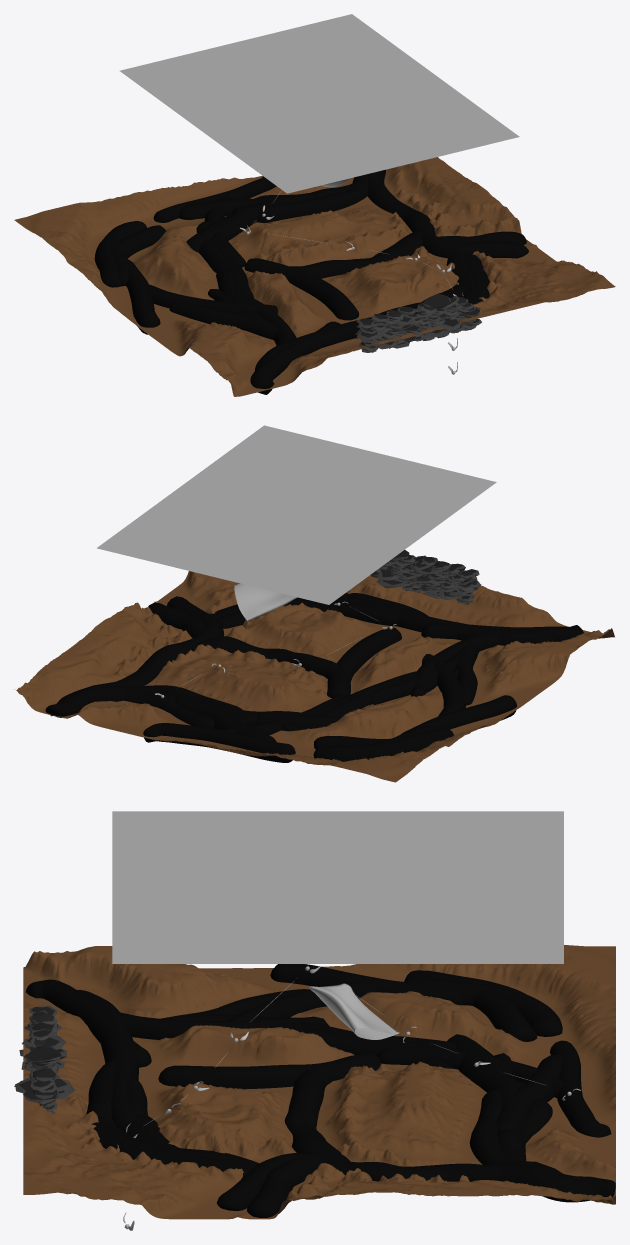
Rendered from quiet.fbx.
3 renders of one model, top to bottom at view 1: azimuth 30°, elevation 25°; view 2: azimuth 150°, elevation 25°; view 3: azimuth 270°, elevation 25°, orthographic. The views are drawn at different scales.
Visible parts, largest first — view 1: polySurface2, canopy, pCube22, pCube25e, pCube23, pCube26, pCube29e, pCube21e, pCube24, pCube28e, pCube20, pCube27; view 2: polySurface2, canopy, pCube22, pCube20, pCube24, pCube23, pCube25e, pCube26, pCube29e, pCube21e, ziploc, pCube27 (+1 smaller); view 3: polySurface2, canopy, pCube22, pCube23, pCube29e, pCube26, pCube20, pCube24, pCube25e, pCube28e, ziploc, pCube27 (+1 smaller).
Boxes of the visible parts, x1,y1,x2,y2 form: polySurface2: (14, 157, 615, 396); canopy: (119, 14, 519, 193); pCube22: (244, 169, 528, 320); pCube25e: (179, 193, 317, 252); pCube23: (94, 221, 165, 287); pCube26: (126, 259, 277, 334); pCube29e: (222, 290, 340, 394); pCube21e: (169, 268, 277, 339); pCube24: (153, 176, 276, 267); pCube28e: (422, 252, 489, 304); pCube20: (255, 302, 423, 370); pCube27: (199, 237, 254, 302); polySurface2: (14, 571, 614, 782); canopy: (97, 425, 496, 604); pCube22: (45, 596, 401, 728); pCube20: (332, 593, 555, 645); pCube24: (143, 695, 345, 762); pCube23: (313, 725, 453, 761); pCube25e: (175, 696, 338, 742); pCube26: (400, 654, 516, 734); pCube29e: (415, 623, 584, 686); pCube21e: (369, 644, 479, 705); ziploc: (234, 583, 297, 621); pCube27: (313, 669, 436, 719); polySurface2: (23, 945, 615, 1219); canopy: (112, 811, 563, 963); pCube22: (158, 1053, 615, 1217); pCube23: (404, 970, 562, 1041); pCube29e: (26, 979, 305, 1067); pCube26: (225, 964, 465, 1027); pCube20: (76, 990, 147, 1129); pCube24: (377, 1040, 611, 1137); pCube25e: (447, 1034, 563, 1131); pCube28e: (92, 1114, 259, 1179); ziploc: (309, 983, 399, 1039); pCube27: (255, 1017, 459, 1068).
Bounding box in the file's own units: 200 × 114 × 203.
